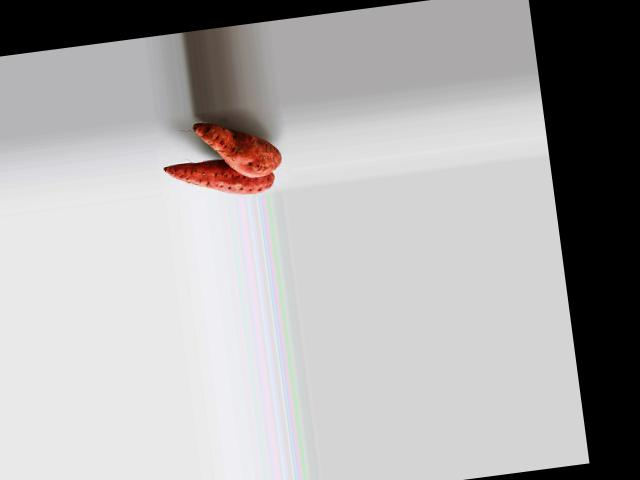sweet_potato: (170, 152, 275, 202)
